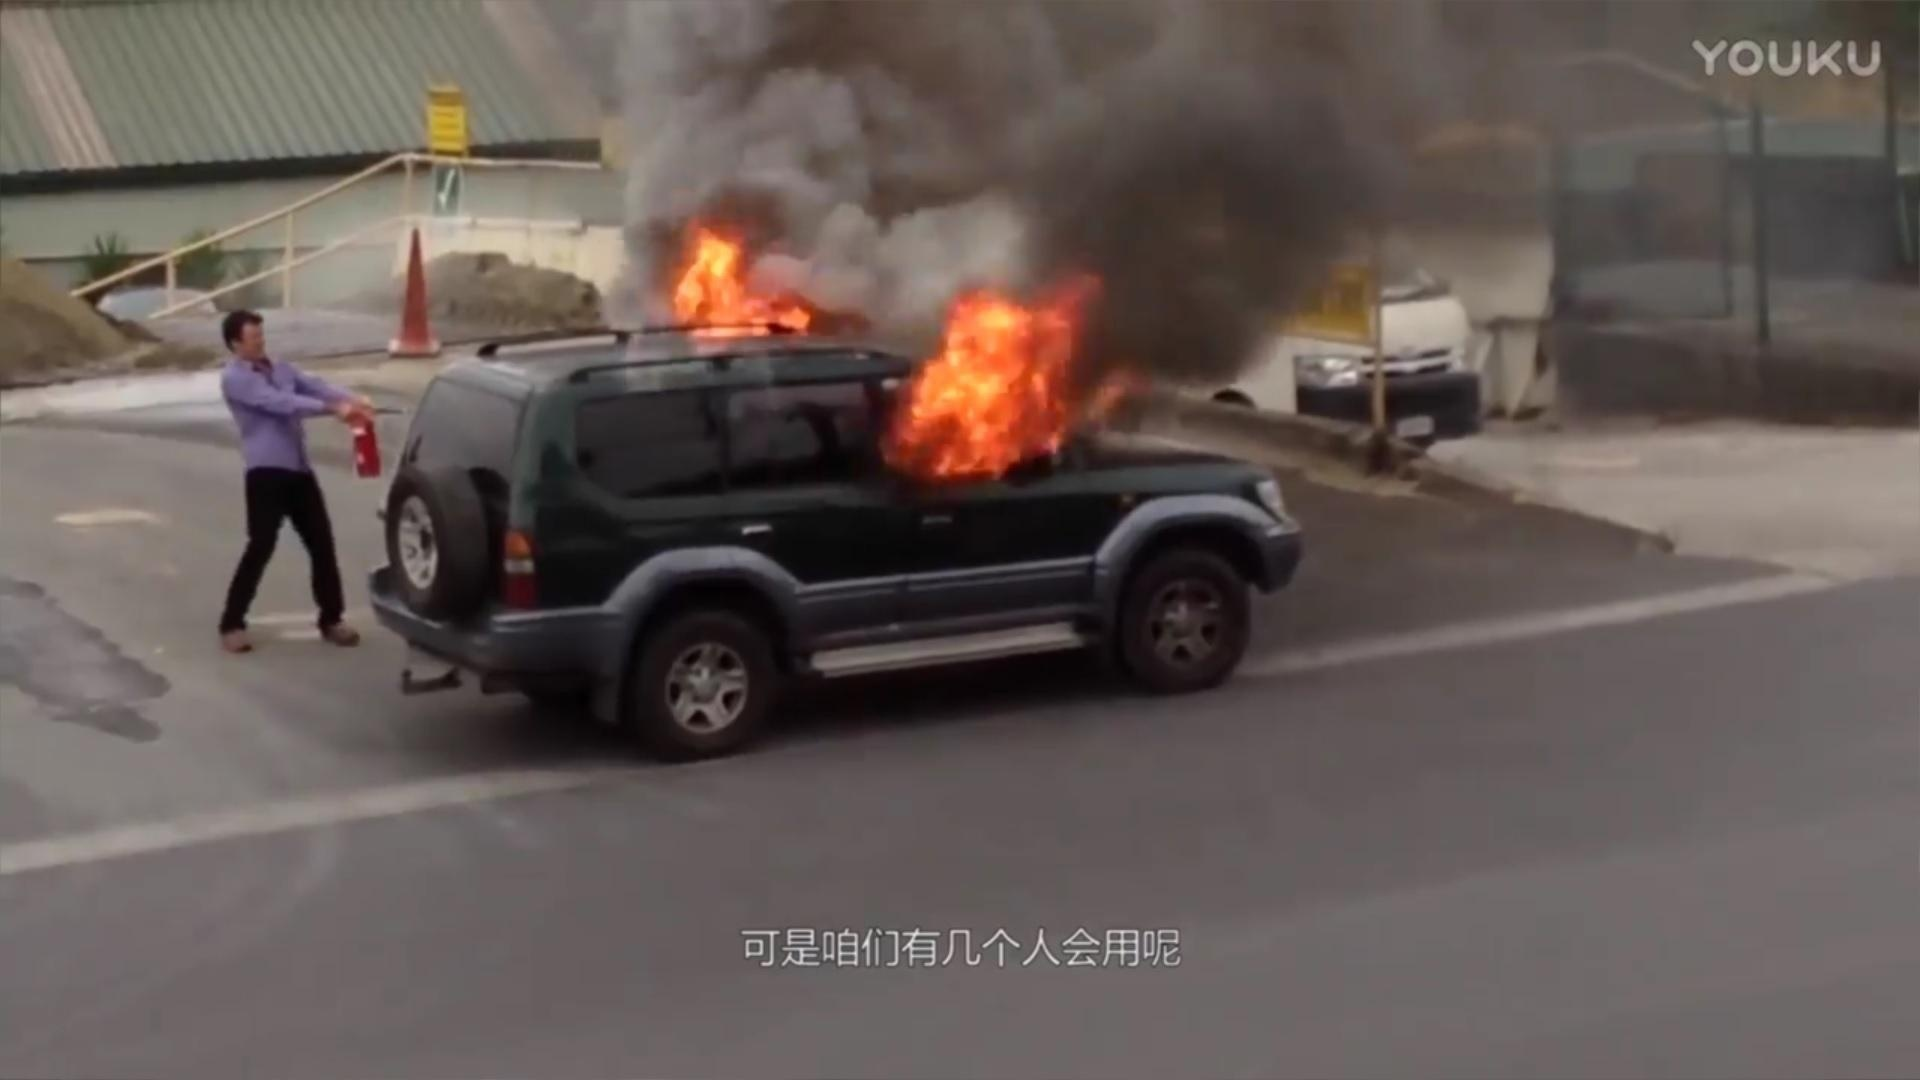fire: (895, 287, 1096, 483), (665, 219, 811, 339)
